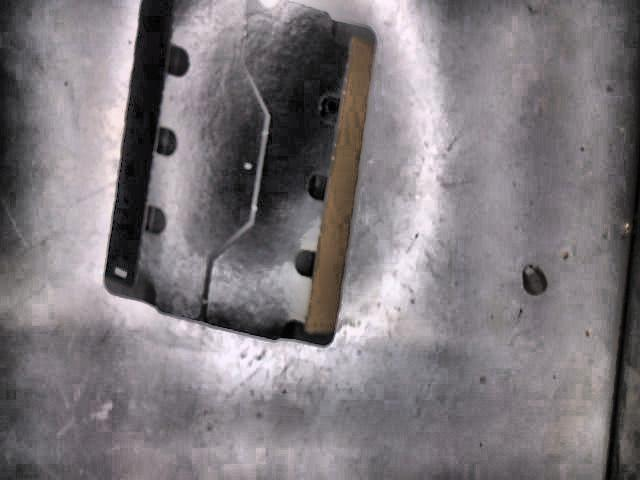Paper: (102, 0, 377, 347)
